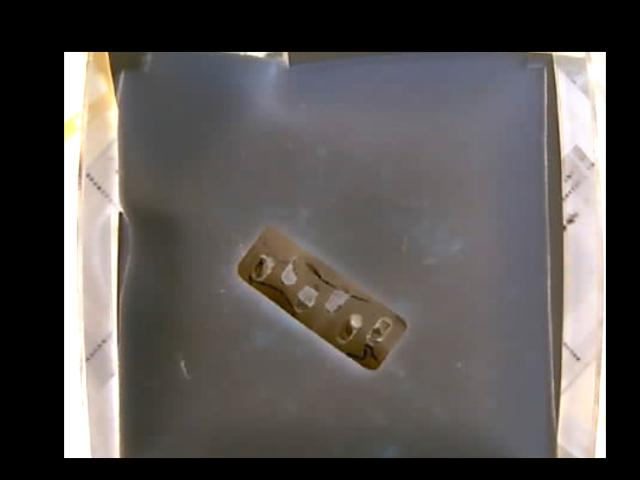Medicine: (235, 227, 405, 371)
